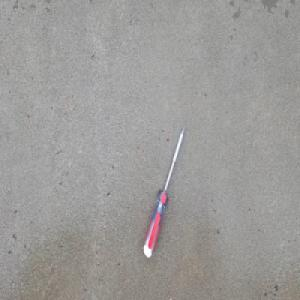Screwdriver: (141, 122, 186, 259)
